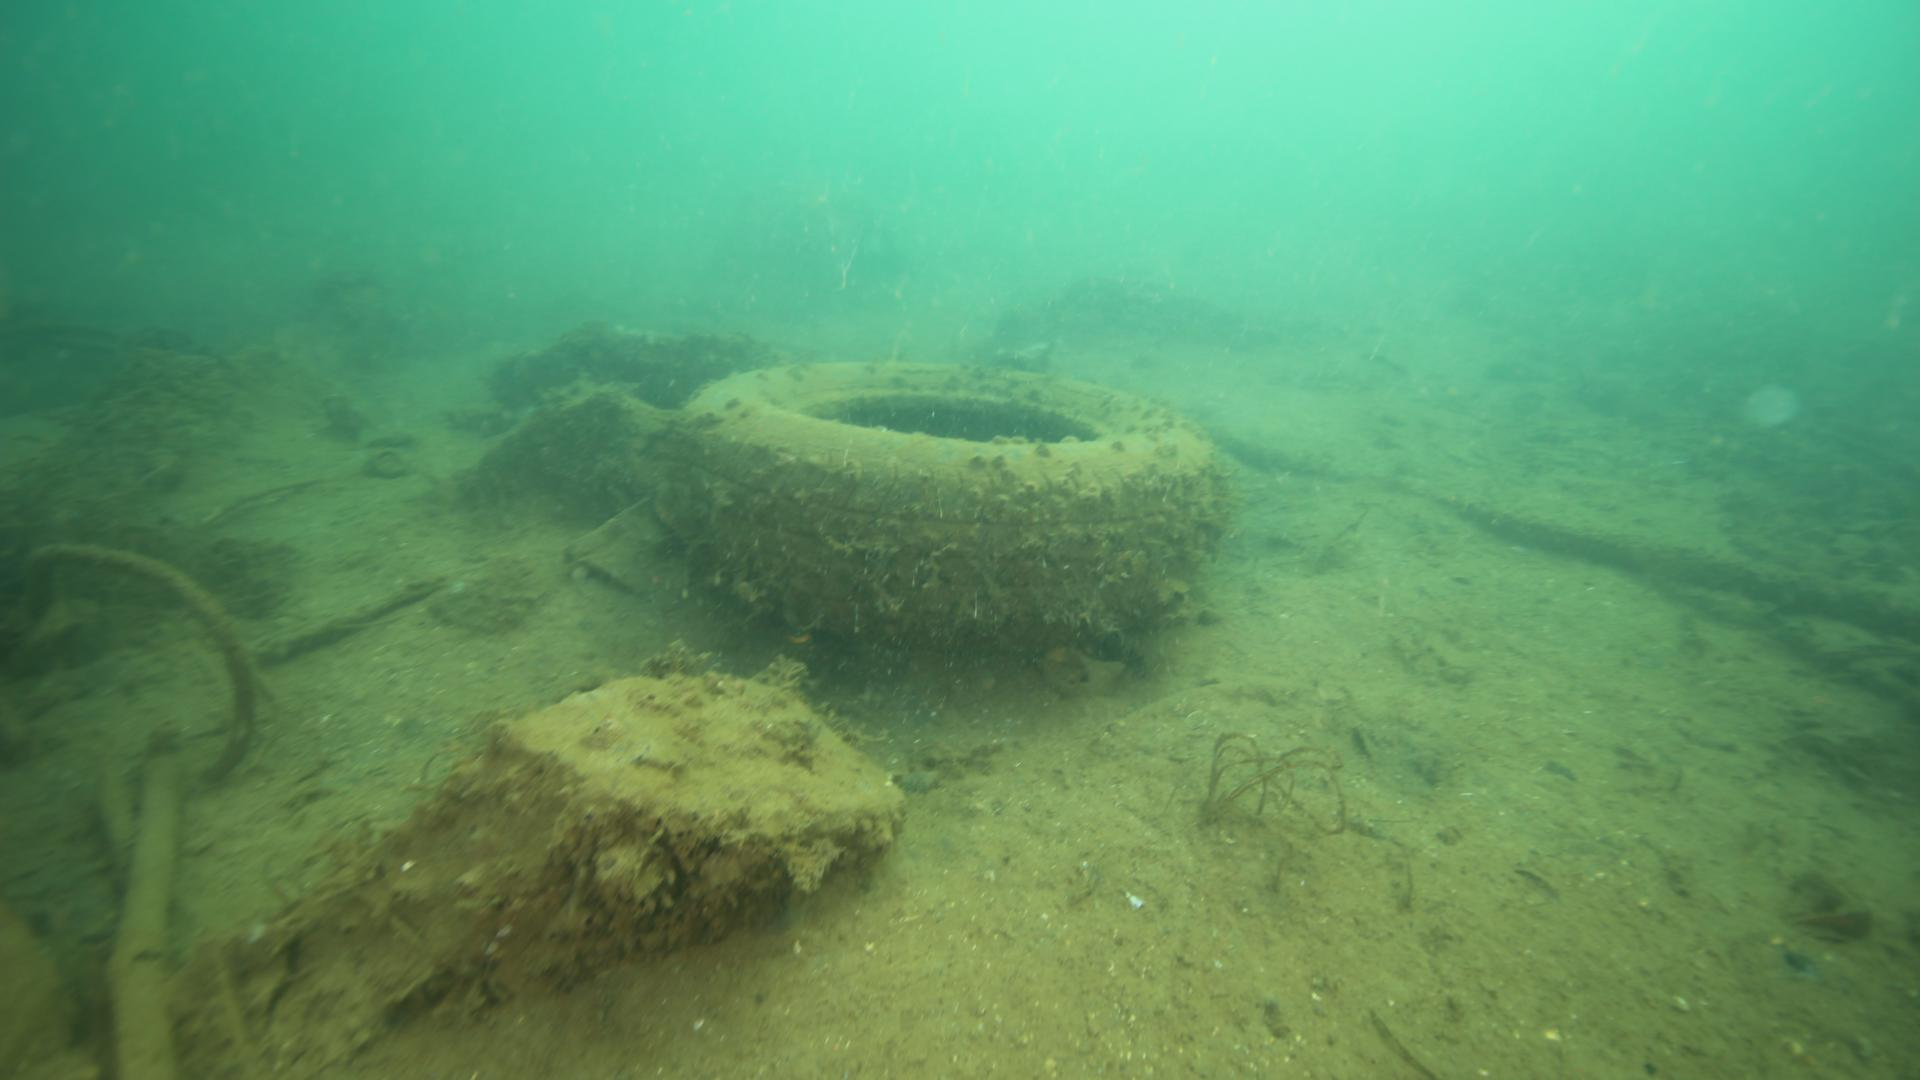tire: (659, 357, 1222, 659)
